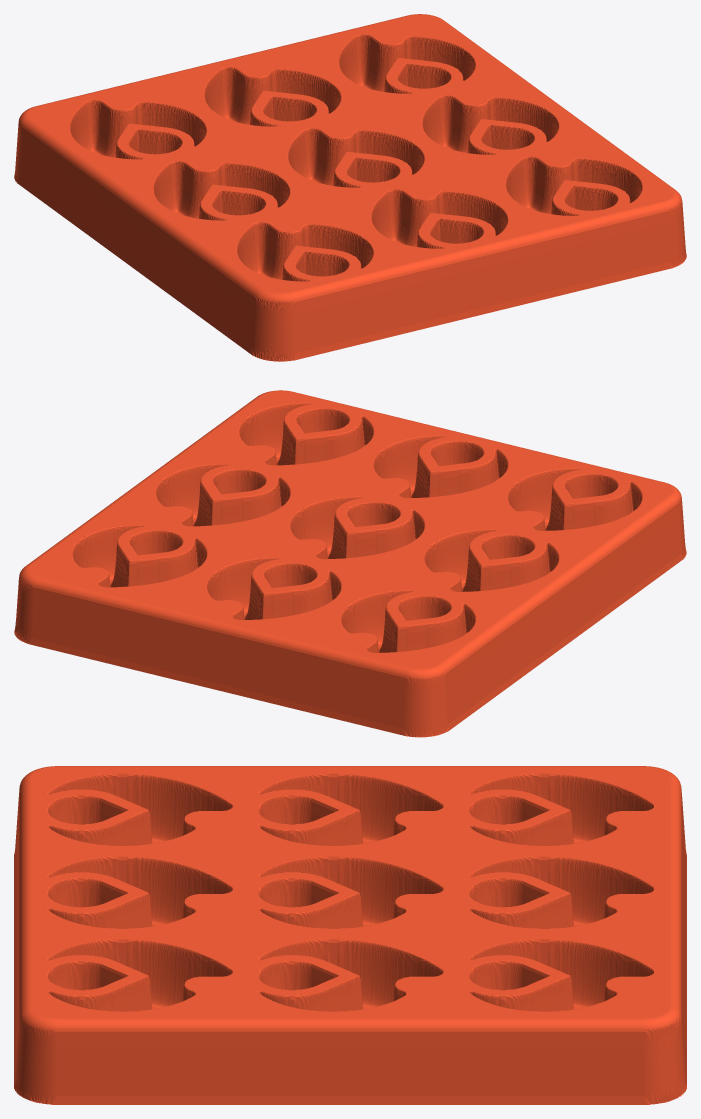
The model's file is mold.glb.
The picture shows the model from 3 angles, top to bottom: view 1: azimuth 30°, elevation 25°; view 2: azimuth 150°, elevation 25°; view 3: azimuth 270°, elevation 25°; orthographic projection. The views are drawn at different scales.
Visible parts, largest first — view 1: geometry_0; view 2: geometry_0; view 3: geometry_0.
Boxes of the visible parts, <box> form: geometry_0: <box>14,14,686,361</box>; geometry_0: <box>14,390,686,737</box>; geometry_0: <box>14,766,686,1104</box>.
Bounding box in the file's own units: 0.131 × 0.0182 × 0.1402.
